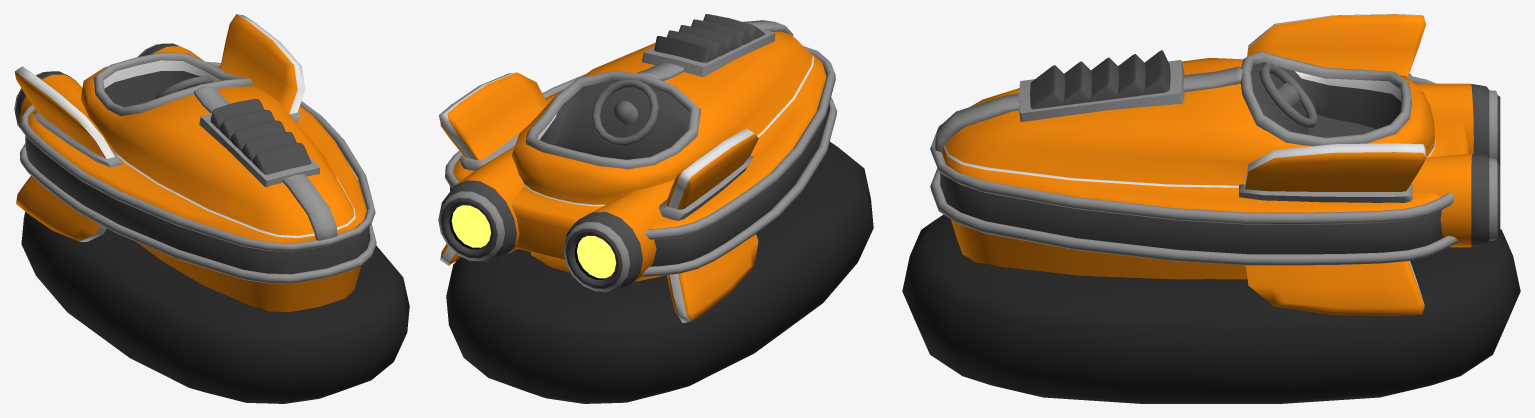
The model's file is mesh_Car_InGame_B.fbx.
The picture shows the model from 3 angles, left to right: view 1: azimuth 30°, elevation 25°; view 2: azimuth 150°, elevation 25°; view 3: azimuth 270°, elevation 25°; orthographic projection. The views are drawn at different scales.
Parts seen in each view (by area): view 1: mesh_Car_InGame_B; view 2: mesh_Car_InGame_B; view 3: mesh_Car_InGame_B.
Part boxes in pixels (x1,y1,x2,y2): mesh_Car_InGame_B: [14, 14, 409, 403]; mesh_Car_InGame_B: [438, 14, 873, 403]; mesh_Car_InGame_B: [902, 14, 1520, 403].
Bounding box in the file's own units: 1.77 × 1.53 × 2.97.
